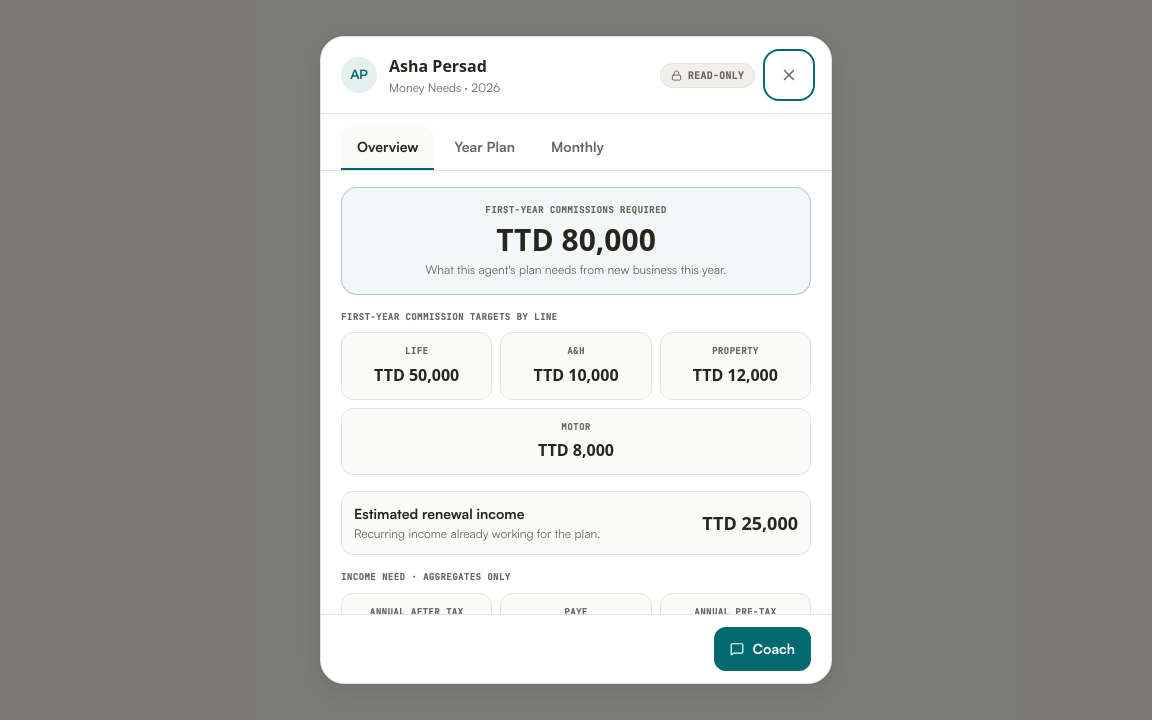
AgentPlanDrawer — tab shell › a stale fetch never overwrites the switched-to agent (loadSeq guard)
This screenshot has width=1152, height=720.
Click the tab with test id "tpd-tab-year" at x=485, y=148, box [438,126,531,170]
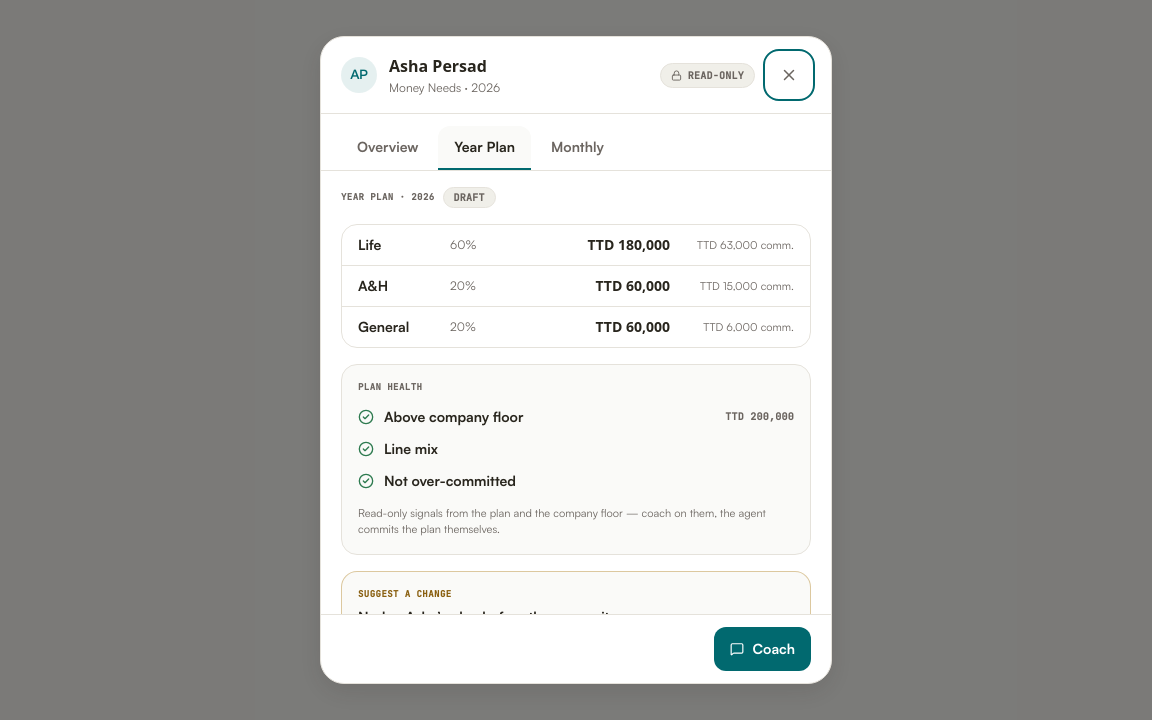
Result: the text with test id "tpd-year-status" reads "Draft" at [454,191,485,204]
